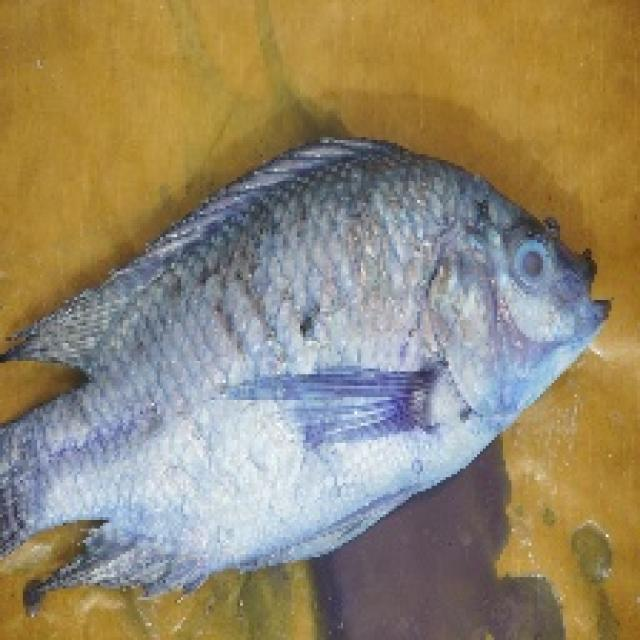Non-Fresh: (467, 199, 605, 339)
